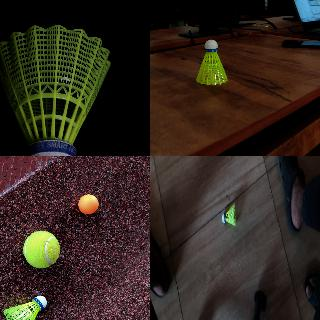shuttlecock: (0, 25, 112, 155), (196, 40, 228, 84), (3, 296, 46, 319), (222, 204, 236, 226)
